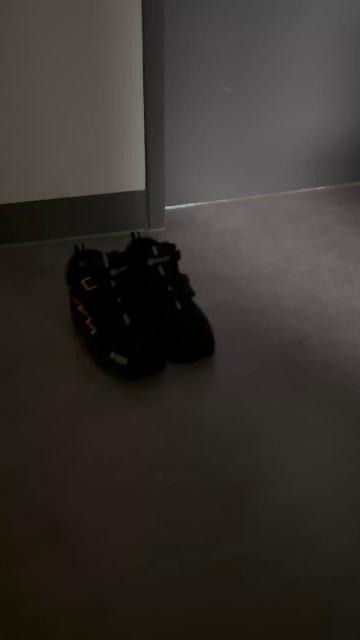shoe_worn: (114, 228, 220, 369), (66, 248, 166, 384)
